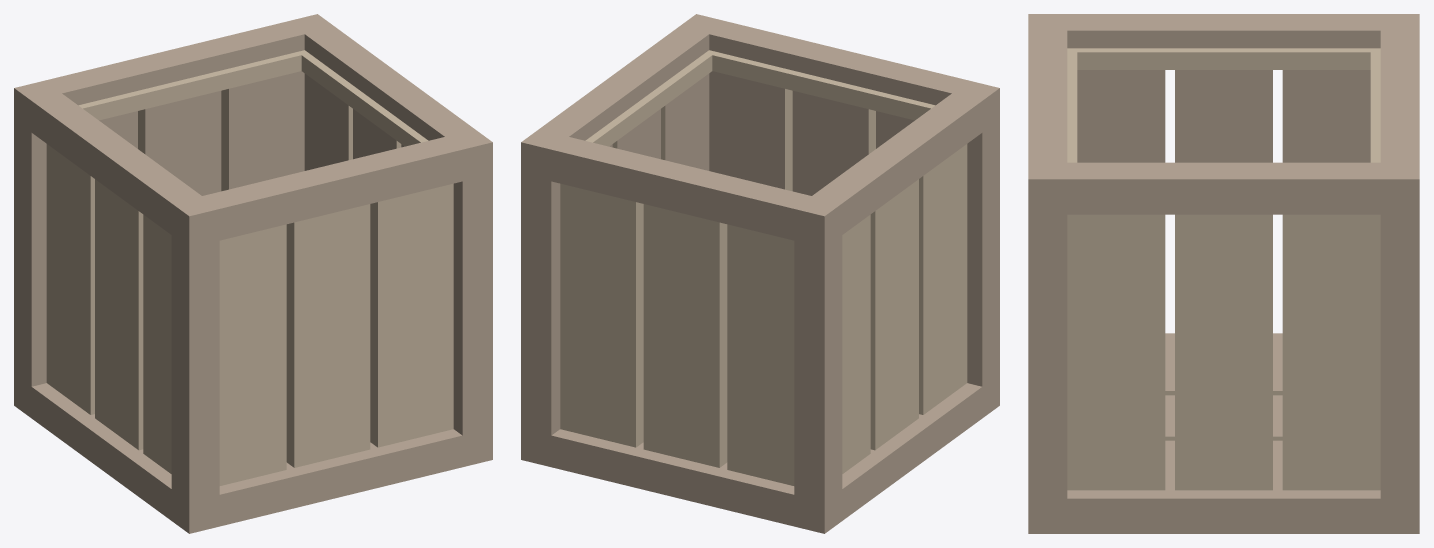
File: object5_016-col.gltf
3 renders of one model, left to right at view 1: azimuth 30°, elevation 25°; view 2: azimuth 150°, elevation 25°; view 3: azimuth 270°, elevation 25°, orthographic. The views are drawn at different scales.
Visible parts, largest first — view 1: object5.016-col; view 2: object5.016-col; view 3: object5.016-col.
Boxes of the visible parts, <box> form: object5.016-col: <box>14,14,492,533</box>; object5.016-col: <box>521,14,999,533</box>; object5.016-col: <box>1028,14,1419,533</box>.
Size of the model in its own units: 1 by 1 by 1.
